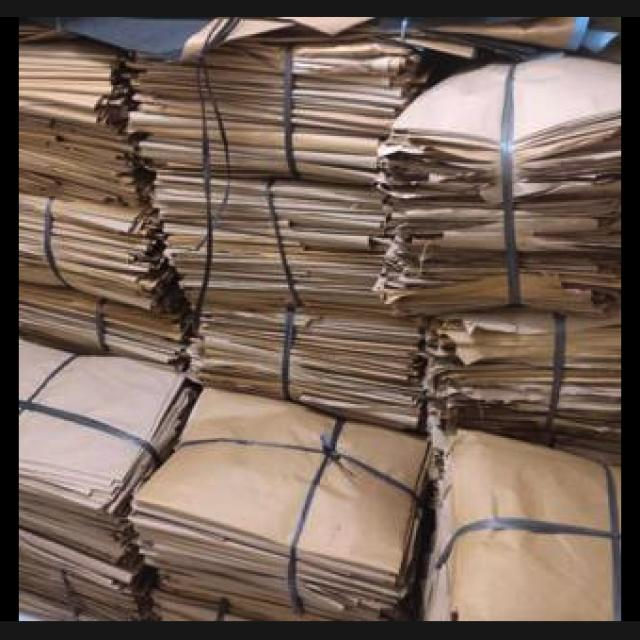Koran: (19, 15, 621, 619)
